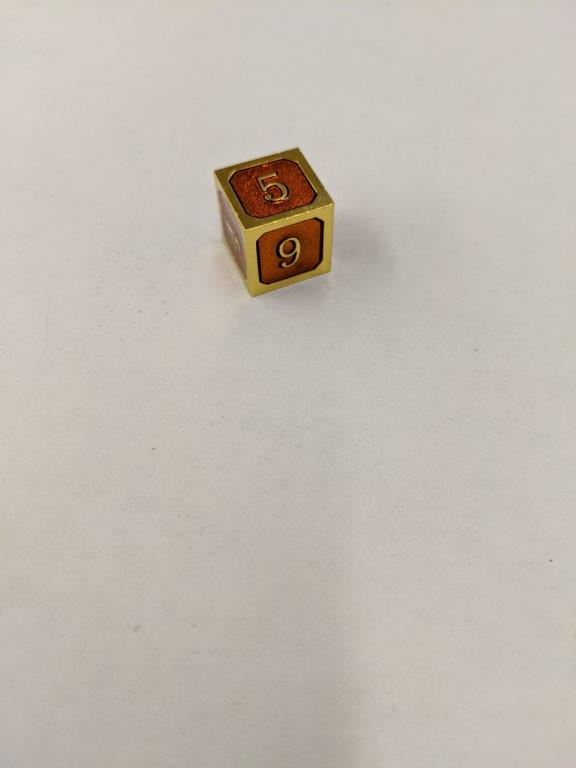d6-5: (211, 147, 337, 299)
